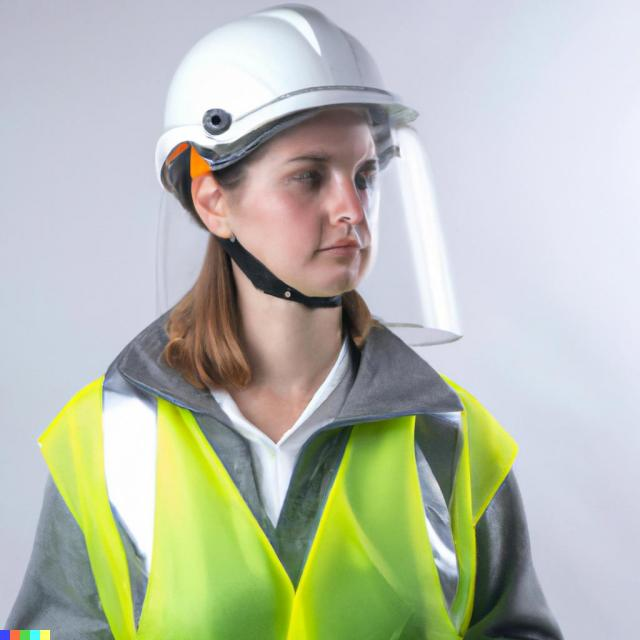Reflective-Jacket: (38, 330, 530, 639)
Safety-Helmet: (152, 5, 424, 174)
